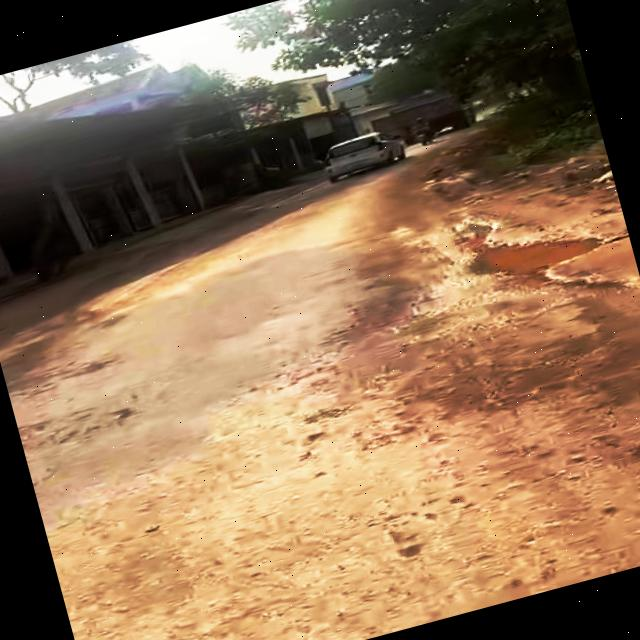pothole: (450, 188, 628, 325)
